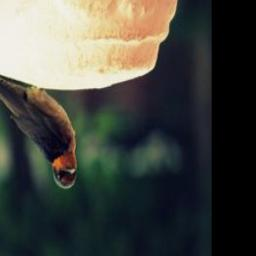Swallow: (0, 60, 79, 193)
